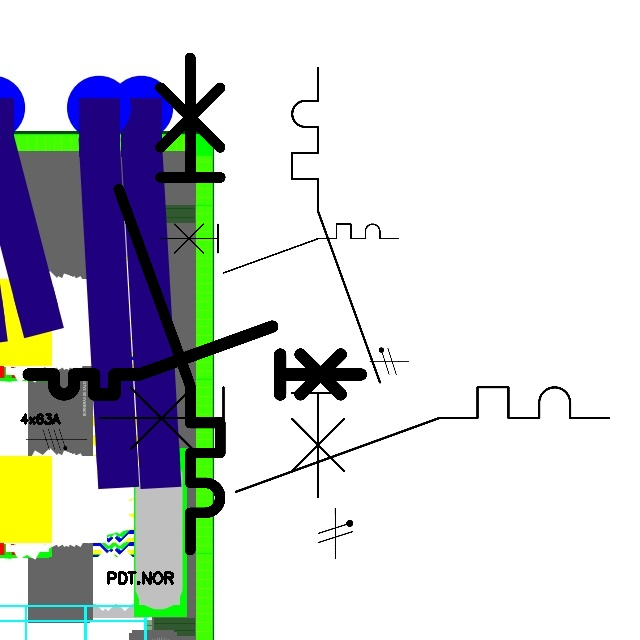interruptor_termomagnetico: (86, 374, 621, 505), (106, 45, 233, 563), (281, 57, 391, 508), (20, 318, 369, 403), (154, 218, 404, 279)
